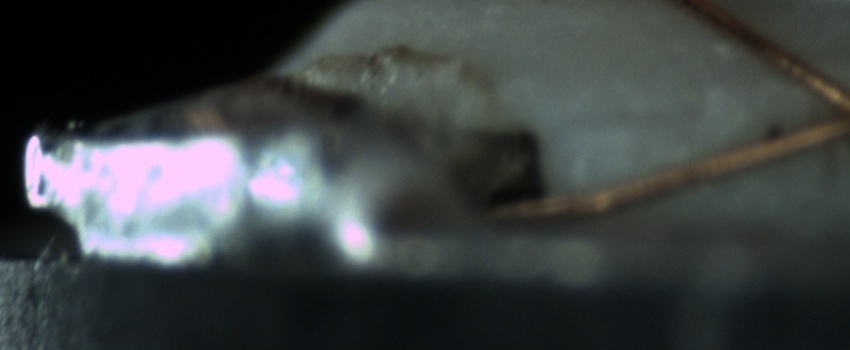DL: (569, 90, 696, 156)
